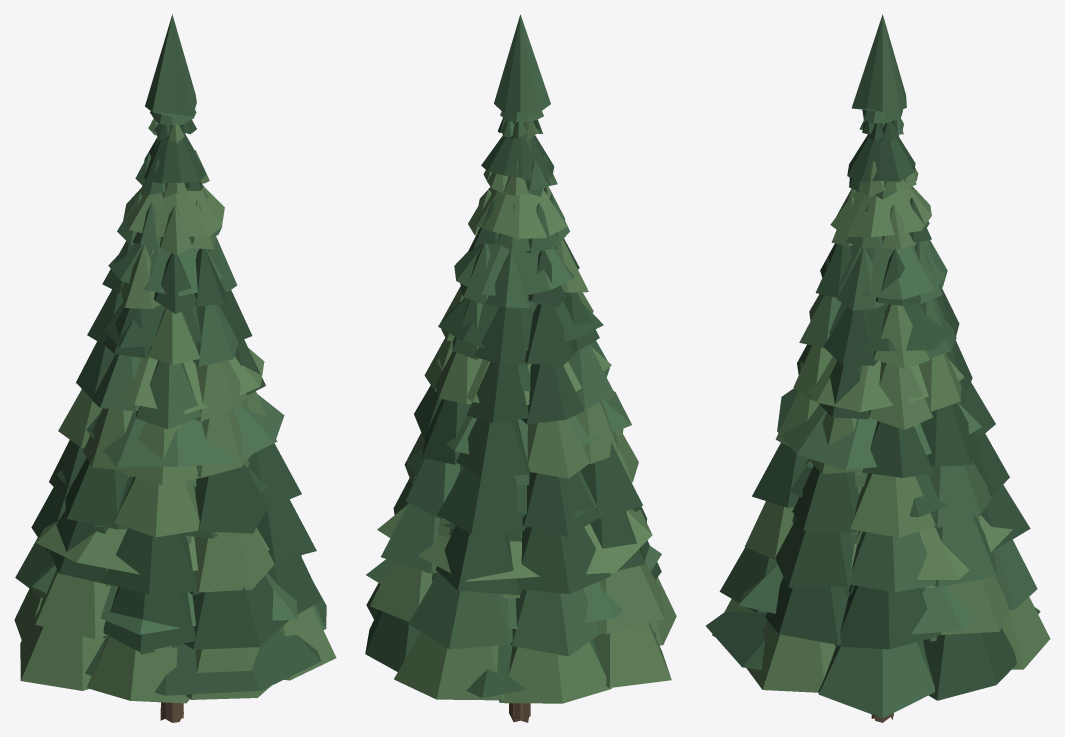
Rendered from conifers.glb.
The picture shows the model from 3 angles, left to right: view 1: azimuth 30°, elevation 25°; view 2: azimuth 150°, elevation 25°; view 3: azimuth 270°, elevation 25°; orthographic projection.
Parts seen in each view (by area): view 1: Conifer2, Conifer1; view 2: Conifer2, Conifer1; view 3: Conifer2, Conifer1.
Part boxes in pixels (x1=…): Conifer2: x1=14, y1=14, x2=336, y2=722; Conifer1: x1=92, y1=124, x2=259, y2=720; Conifer2: x1=365, y1=14, x2=676, y2=722; Conifer1: x1=431, y1=121, x2=542, y2=722; Conifer2: x1=706, y1=14, x2=1050, y2=719; Conifer1: x1=791, y1=123, x2=980, y2=722.
Size of the model in its own units: 7.99 by 17.61 by 7.8.
